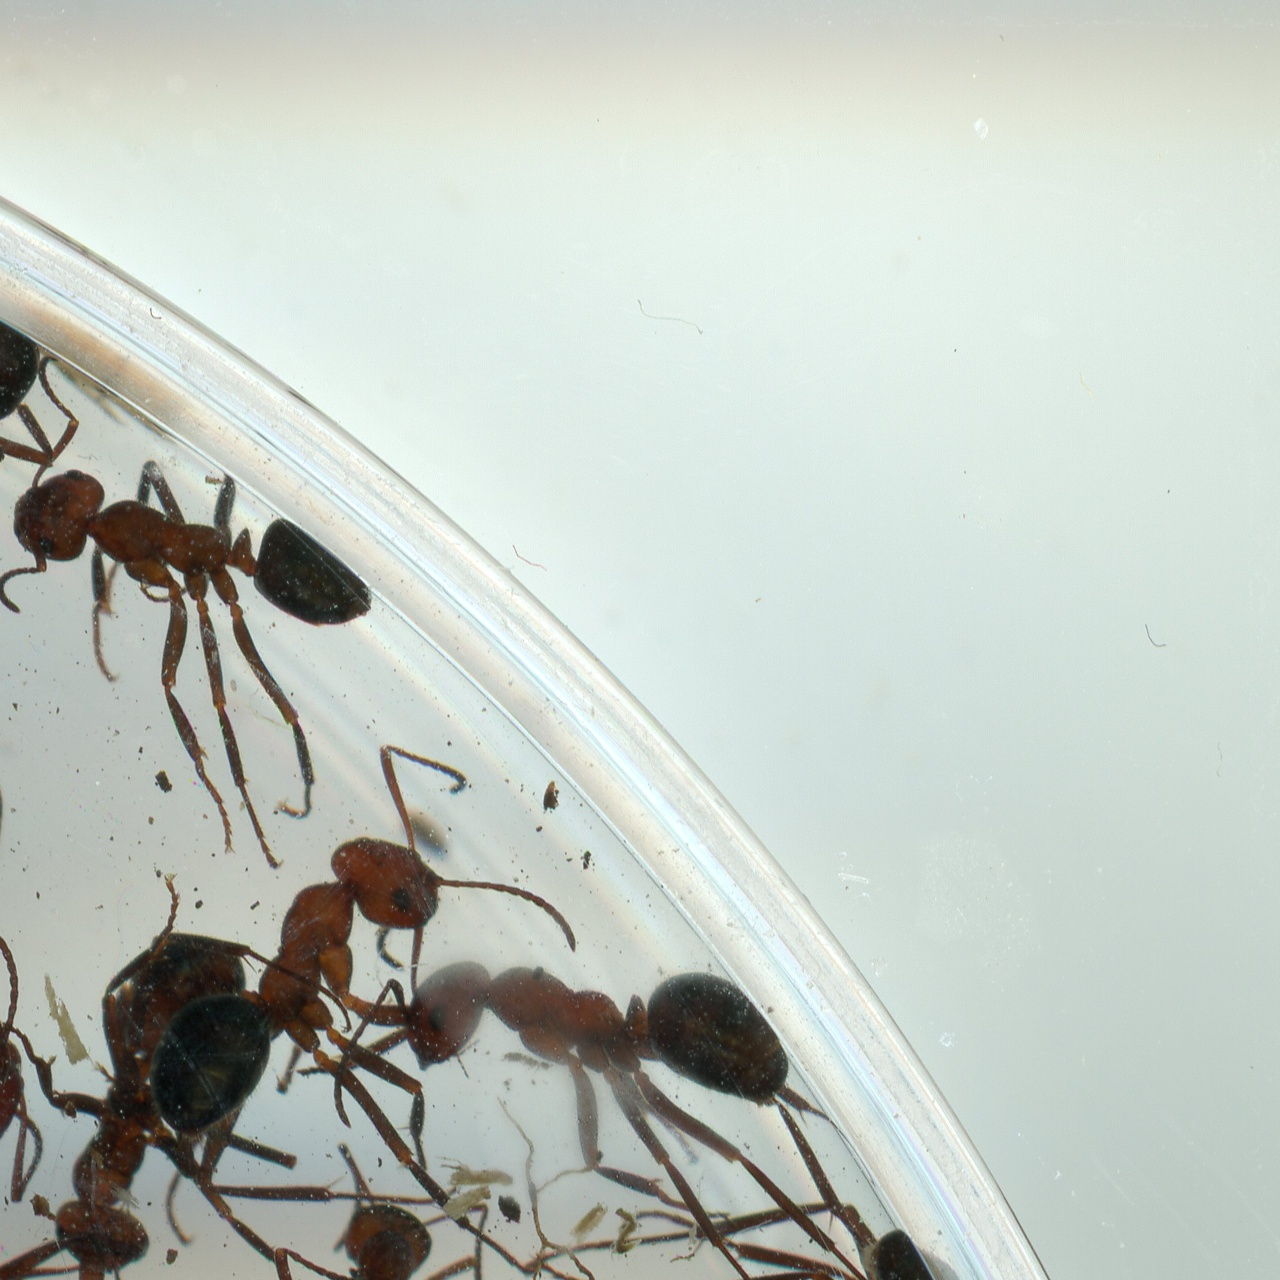arthropod: (101, 713, 622, 1265), (0, 341, 384, 884), (328, 880, 849, 1280), (8, 898, 318, 1280), (305, 1125, 523, 1280), (0, 1203, 436, 1280), (680, 1197, 1050, 1280), (0, 256, 101, 531), (0, 907, 72, 1214)
